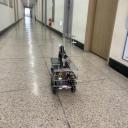cart: (50, 59, 79, 95)
